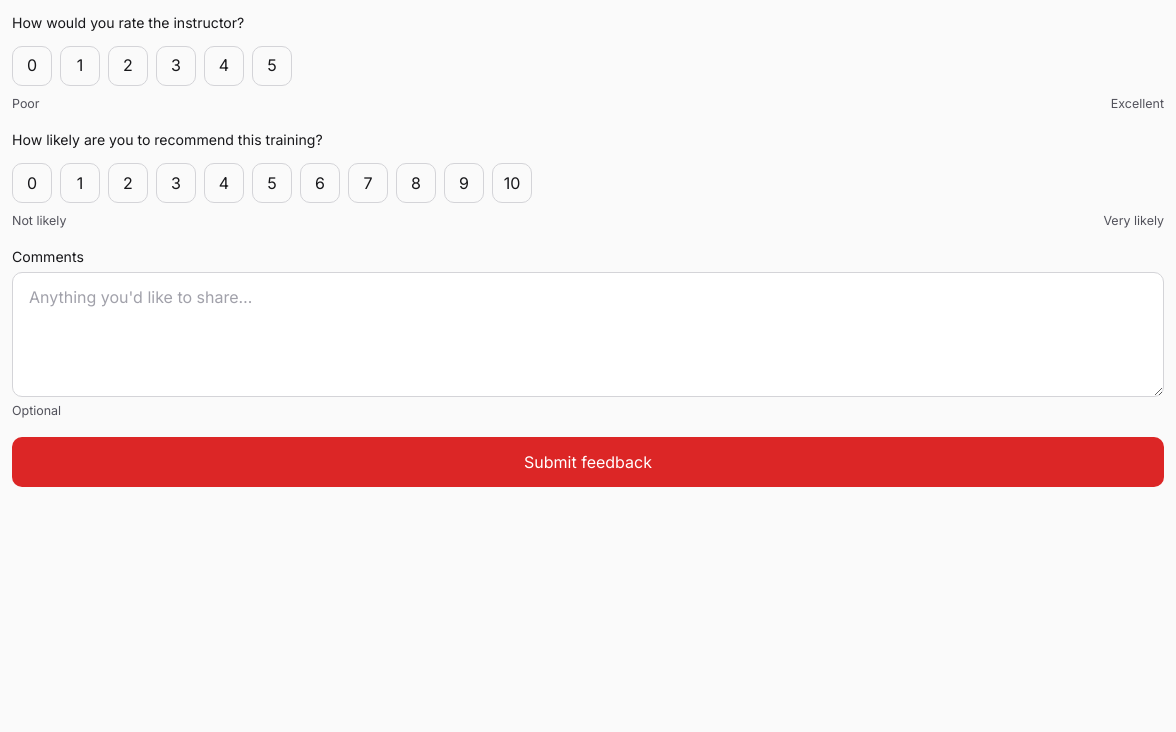
Test: SurveyForm › shows validation errors instead of submitting when no scores are picked
Step 1. Click the button "Submit feedback" → click(588, 462), box x1=12 y1=437 x2=1164 y2=488
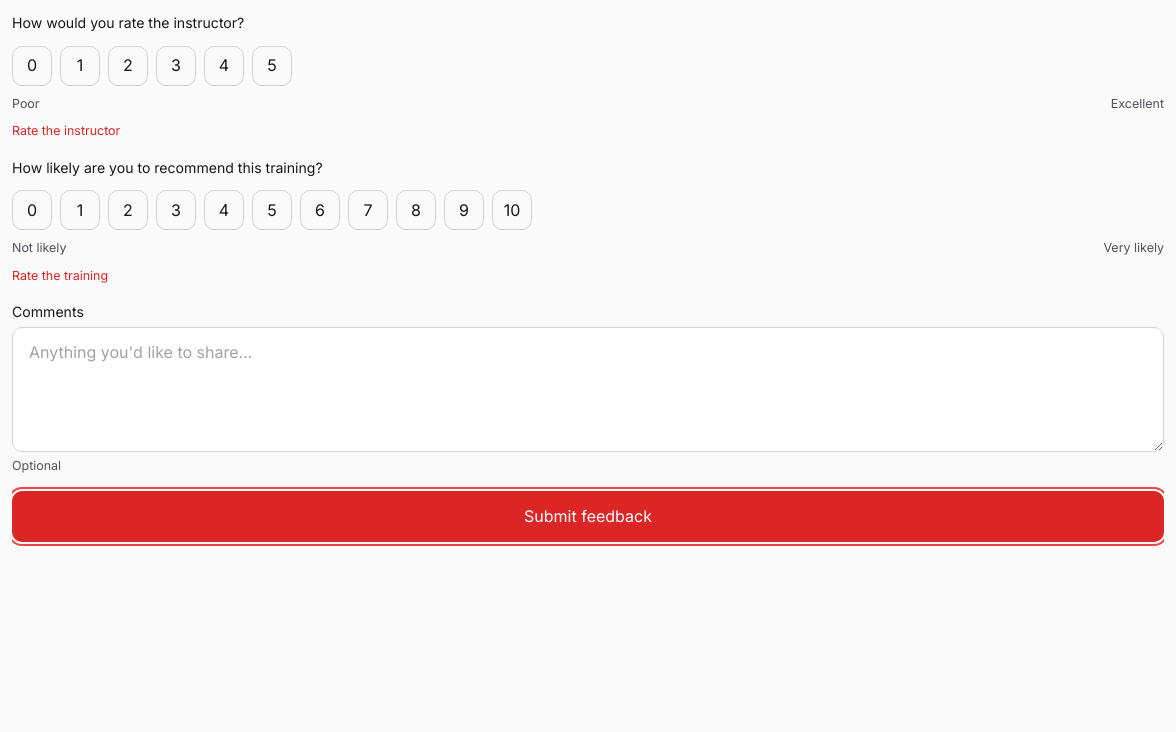
Now the text "Rate the instructor" is shown, box x1=12 y1=123 x2=120 y2=138
Now the text "Rate the training" is shown, box x1=12 y1=268 x2=108 y2=283
